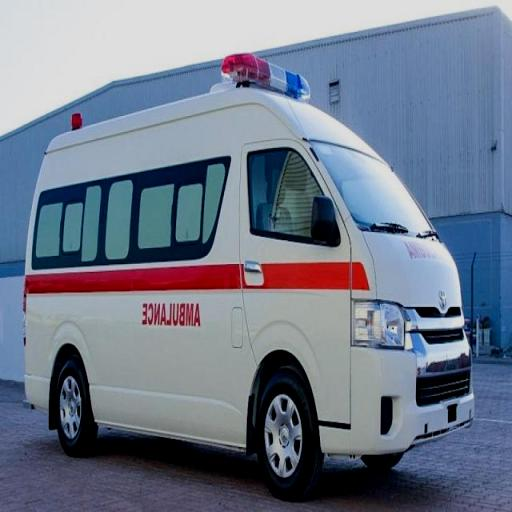Police car: (0, 2, 481, 476)
